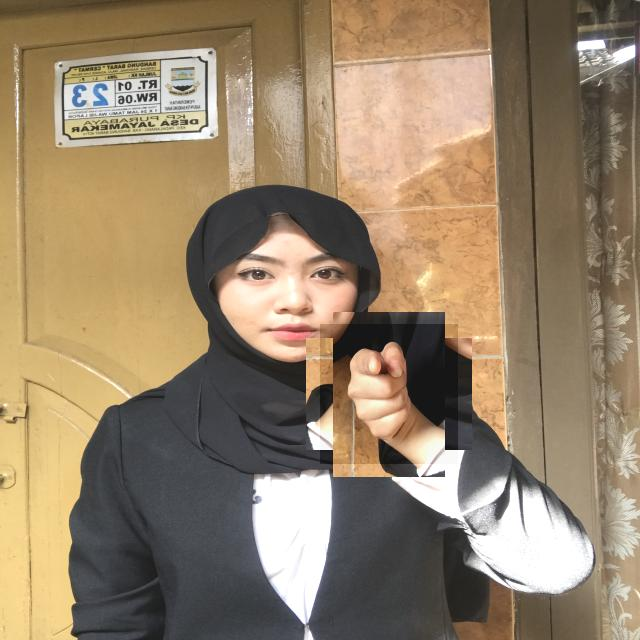kamu: (320, 324, 458, 464)
